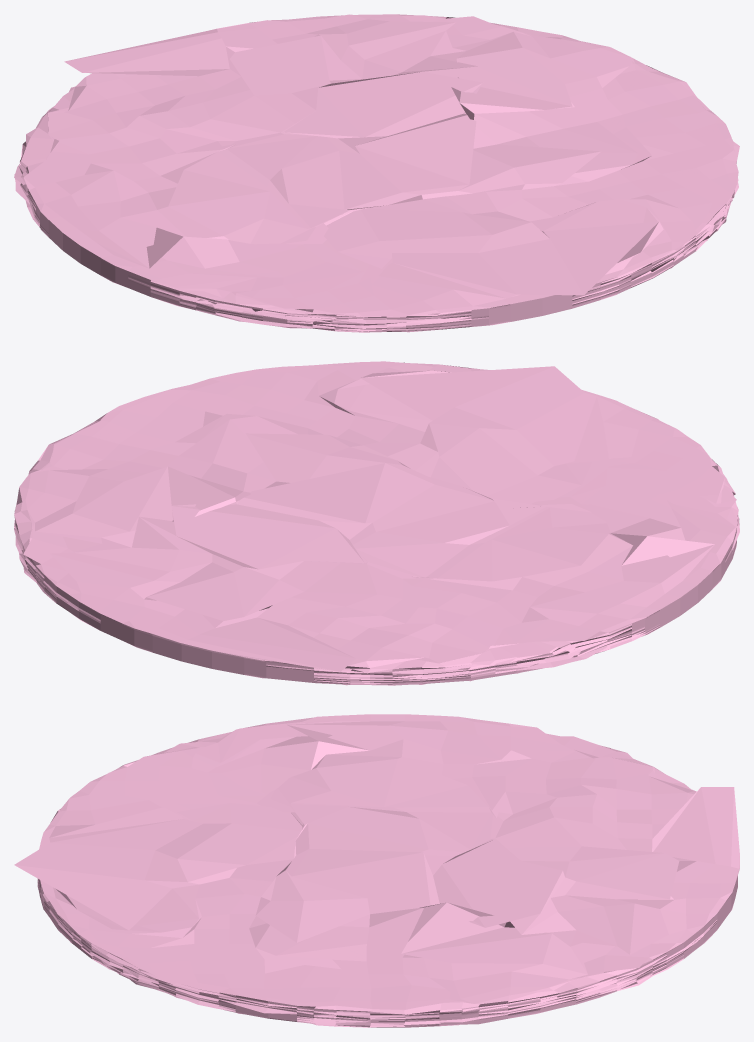
File: Ikan Giling.fbx
The picture shows the model from 3 angles, top to bottom: view 1: azimuth 30°, elevation 25°; view 2: azimuth 150°, elevation 25°; view 3: azimuth 270°, elevation 25°; orthographic projection. The views are drawn at different scales.
Parts seen in each view (by area): view 1: Cylinder; view 2: Cylinder; view 3: Cylinder.
Part boxes in pixels (<box>): Cylinder: <box>14,14,739,332</box>; Cylinder: <box>14,361,739,685</box>; Cylinder: <box>14,714,739,1027</box>.
Size of the model in its own units: 201 by 9.94 by 206.
